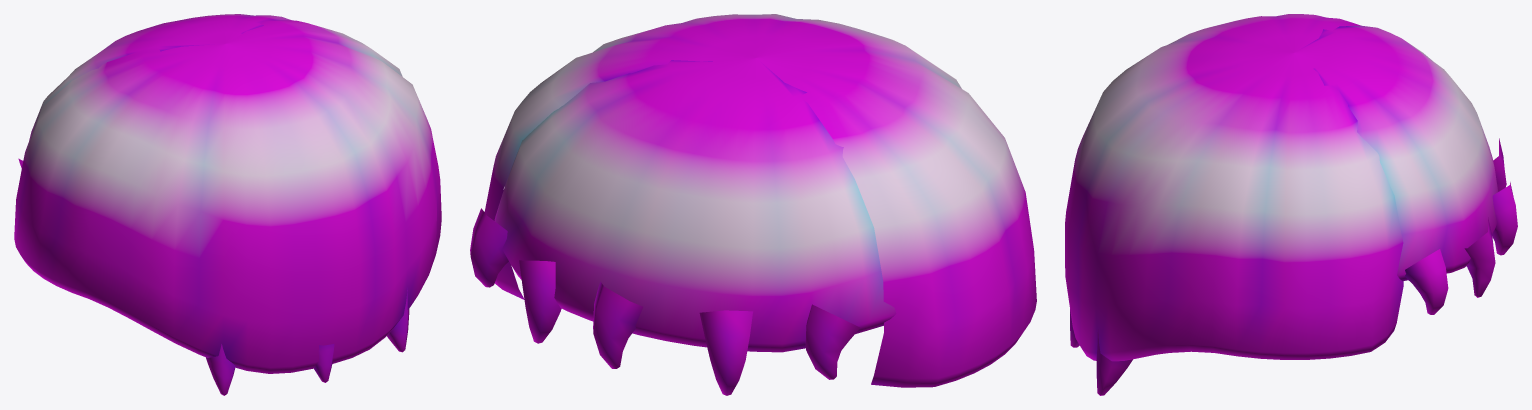
The model's file is short_low.glb.
The picture shows the model from 3 angles, left to right: view 1: azimuth 30°, elevation 25°; view 2: azimuth 150°, elevation 25°; view 3: azimuth 270°, elevation 25°; orthographic projection. The views are drawn at different scales.
Parts seen in each view (by area): view 1: short; view 2: short; view 3: short.
Part boxes in pixels (left/top/right/bottom): short: left=14, top=14, right=441, bottom=395; short: left=470, top=14, right=1036, bottom=395; short: left=1065, top=14, right=1517, bottom=395.
Size of the model in its own units: 0.9256 by 0.6146 by 0.8551.
